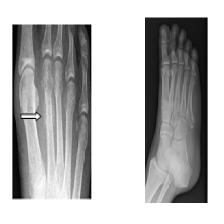stress-fracture: (16, 24, 89, 199), (148, 20, 204, 198)
